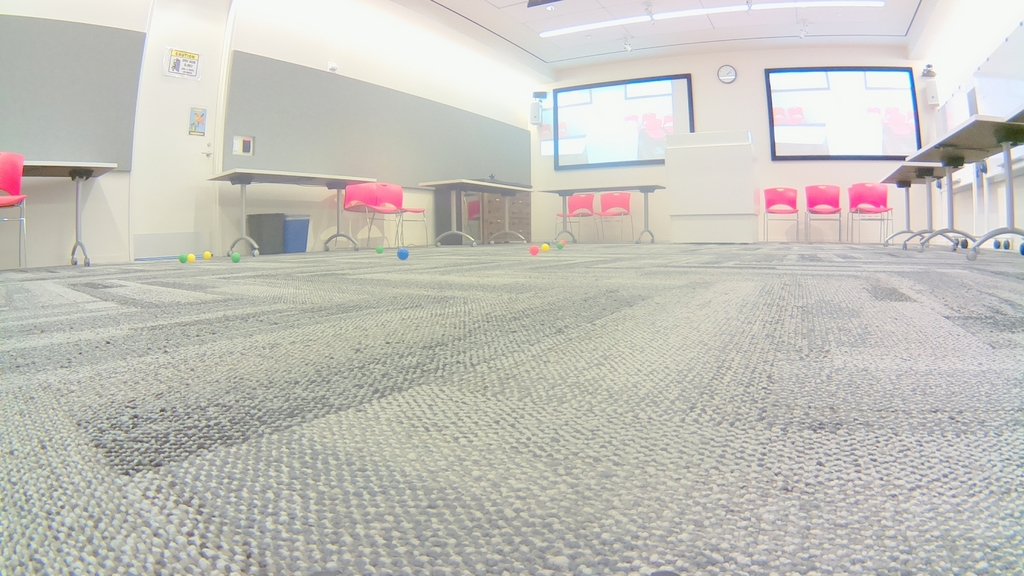ball: (528, 244, 539, 256)
